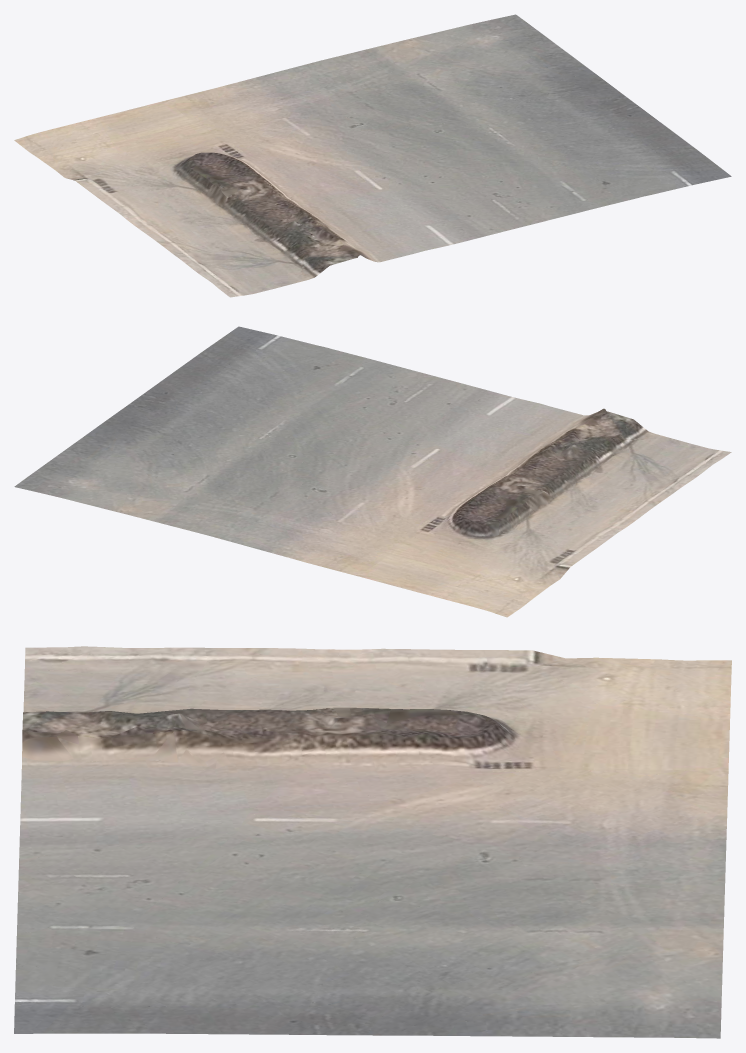
File: Tile_+004_+009_L20_0uuuu01.glb
The picture shows the model from 3 angles, top to bottom: view 1: azimuth 30°, elevation 25°; view 2: azimuth 150°, elevation 25°; view 3: azimuth 270°, elevation 25°; orthographic projection. The views are drawn at different scales.
Parts seen in each view (by area): view 1: rtc; view 2: rtc; view 3: rtc.
Part boxes in pixels (x1=…): rtc: x1=14, y1=14, x2=731, y2=297; rtc: x1=14, y1=326, x2=731, y2=617; rtc: x1=14, y1=646, x2=731, y2=1038.
Bounding box in the file's own units: 23.6 × 0.876 × 18.22.
1 material, 1 textured.
